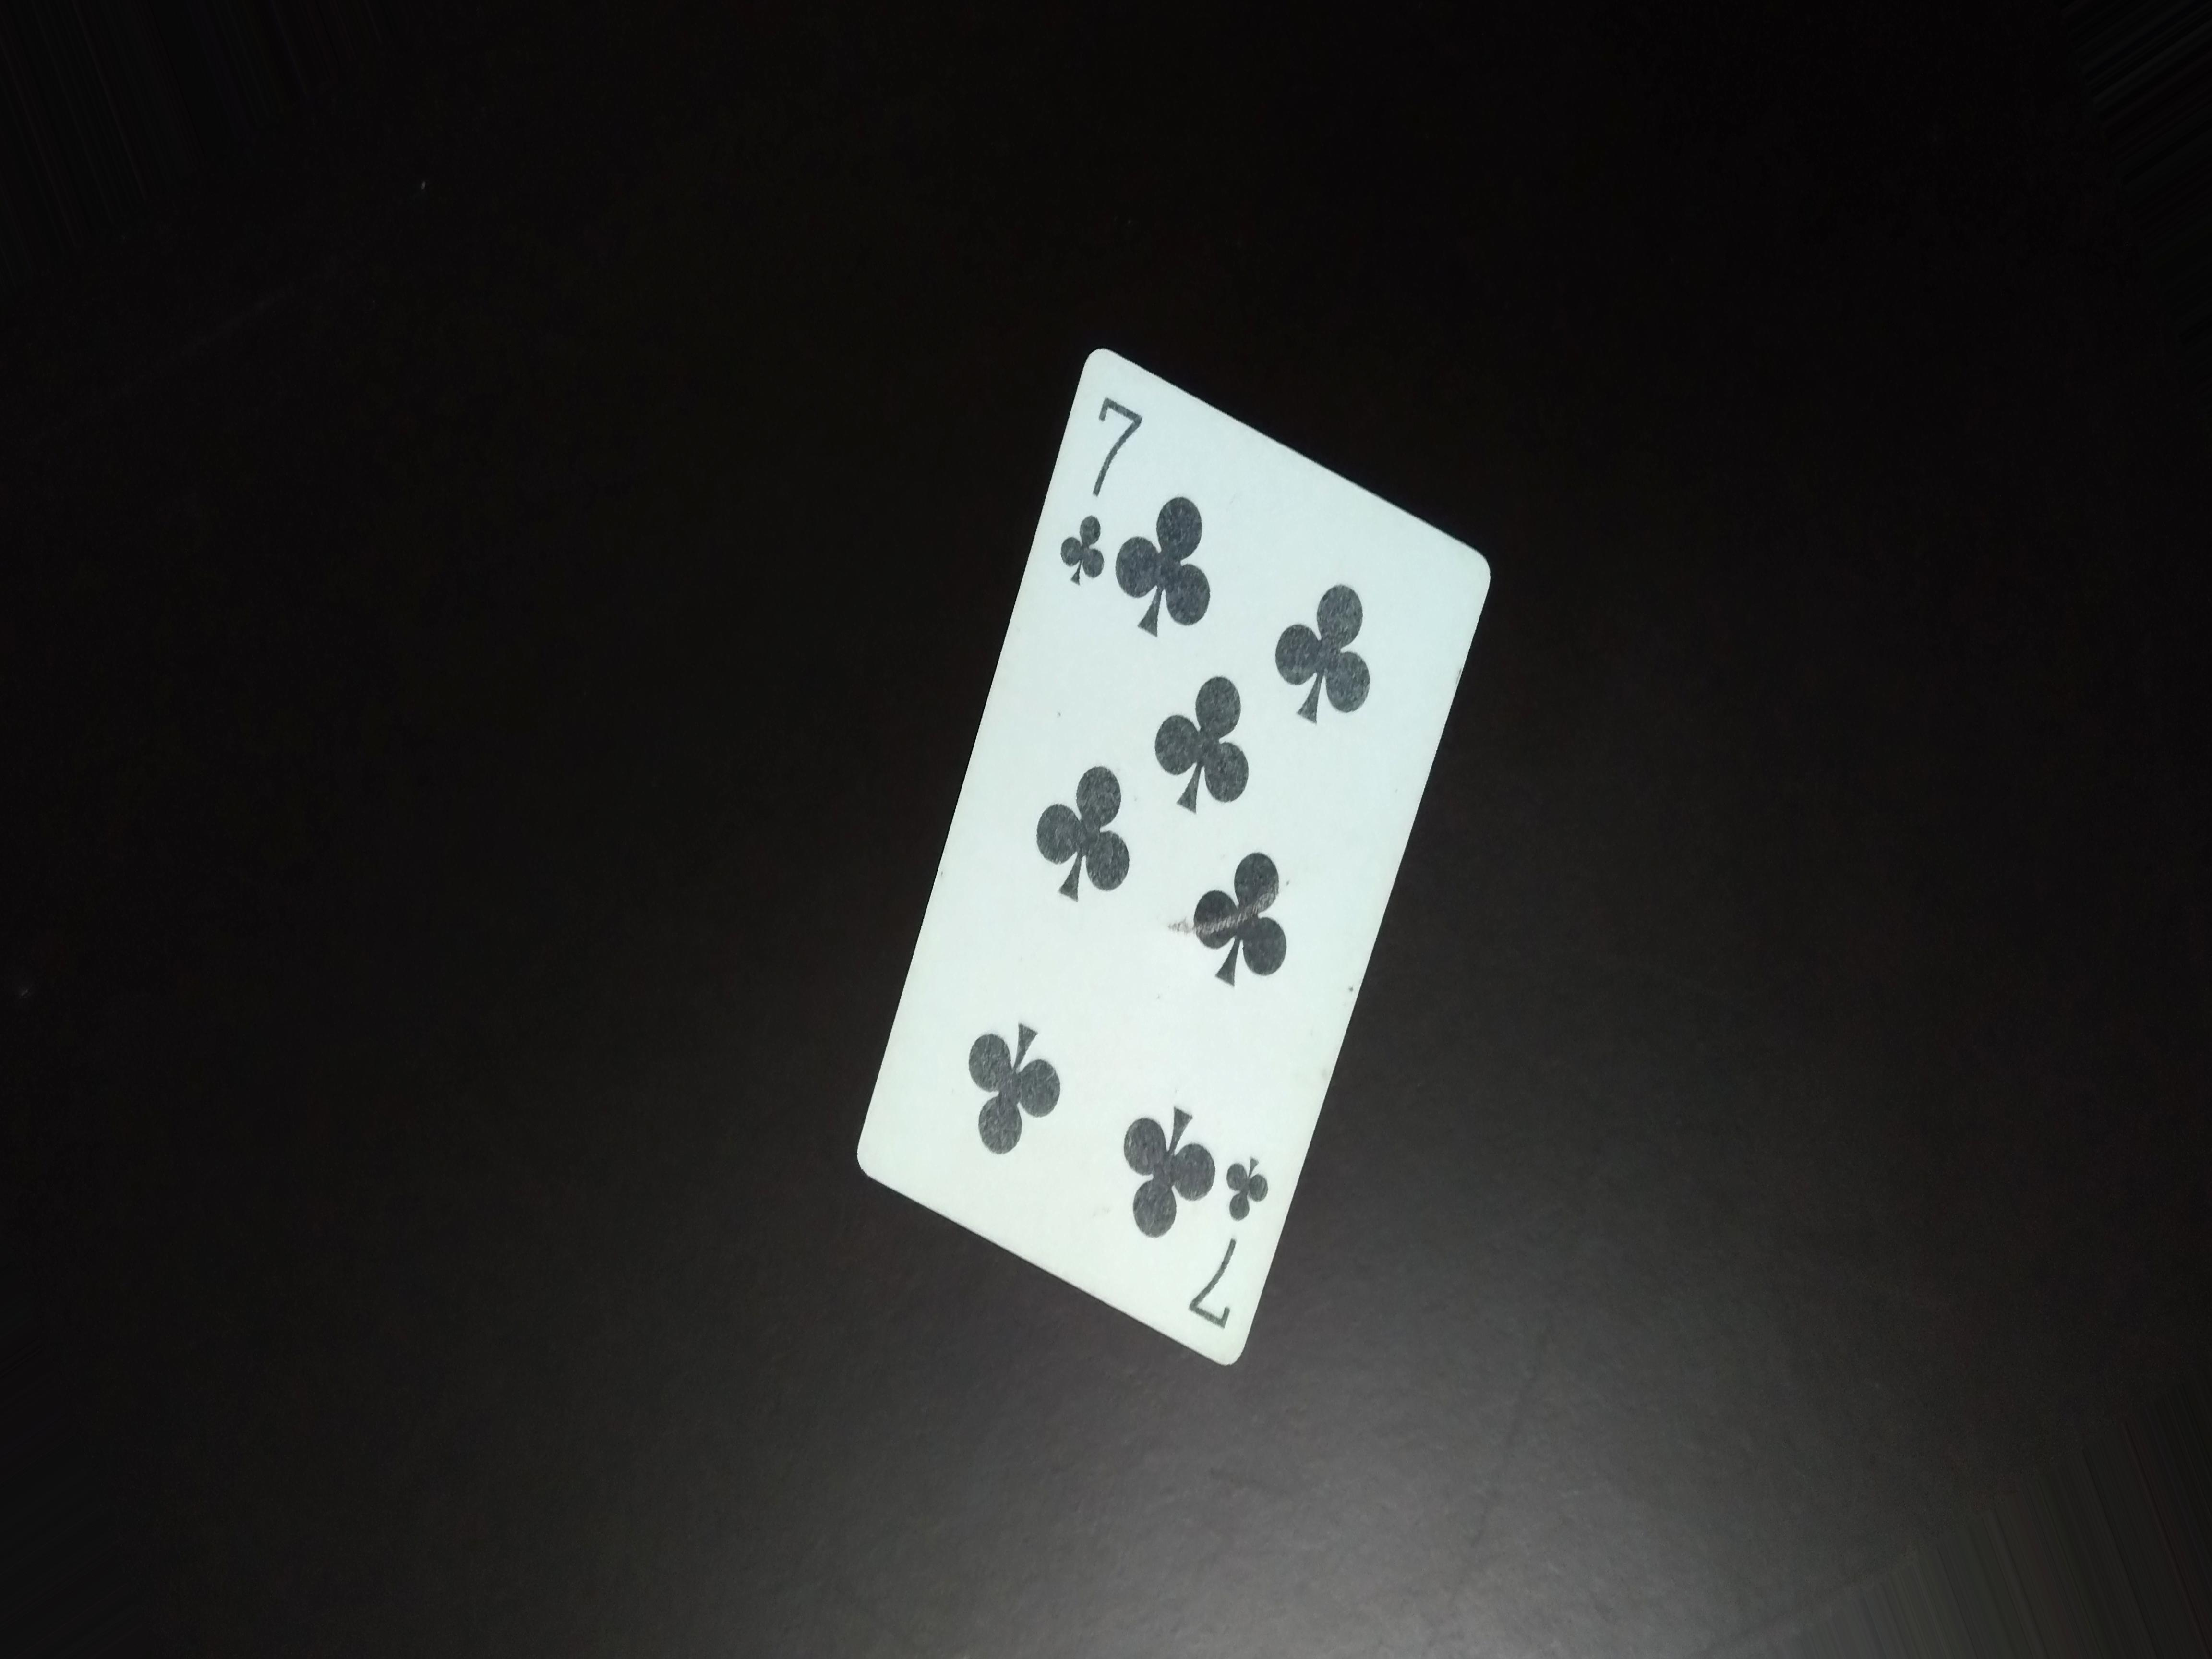7C: (1052, 371, 1144, 610)
